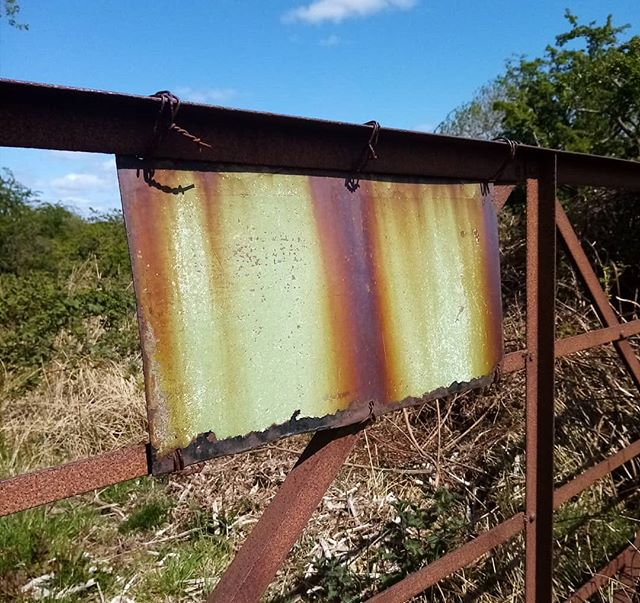sky: (13, 1, 493, 125)
tree: (496, 29, 640, 162)
